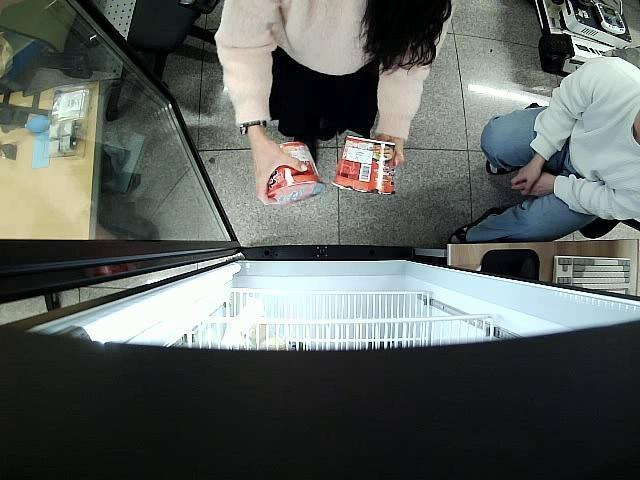01_ShinRamen_L: (264, 140, 325, 207), (332, 134, 396, 196)
